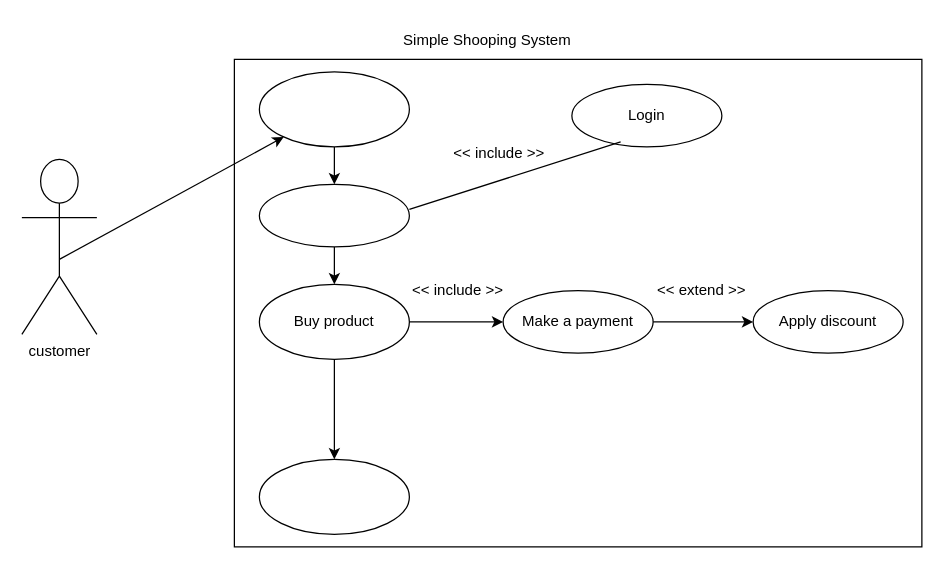
This 944x569 diagram has some shape labels left out. The box of each missing label's shape, as (x1, y1, x2, y2) in pixels:
add to cart: (258, 183, 409, 247)
browse products: (258, 71, 409, 147)
Logout: (258, 458, 409, 534)
